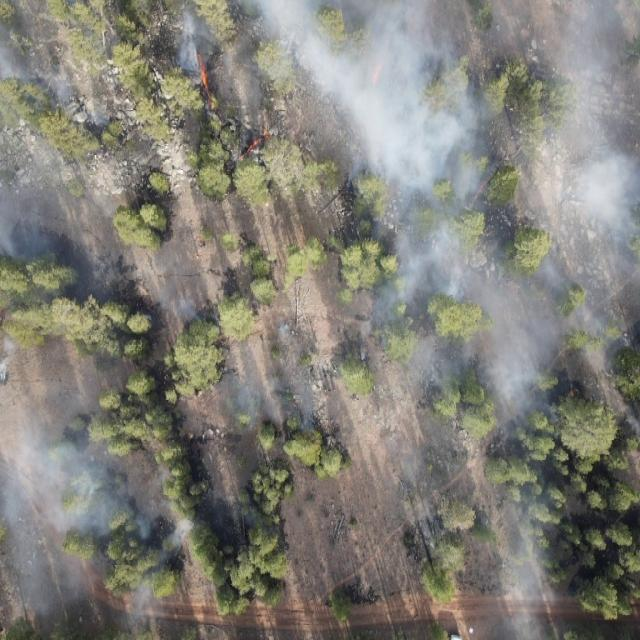fire: (235, 128, 274, 163), (196, 54, 217, 108), (468, 178, 492, 206), (368, 58, 384, 84), (383, 39, 391, 59), (568, 389, 576, 399), (225, 165, 232, 174), (159, 520, 163, 528)
smoke: (236, 0, 640, 184), (391, 354, 578, 640), (345, 182, 640, 356), (1, 420, 199, 640), (0, 146, 107, 272), (0, 0, 102, 129), (225, 325, 328, 437), (577, 354, 640, 444), (172, 7, 216, 82), (148, 284, 204, 334), (204, 490, 260, 536)
